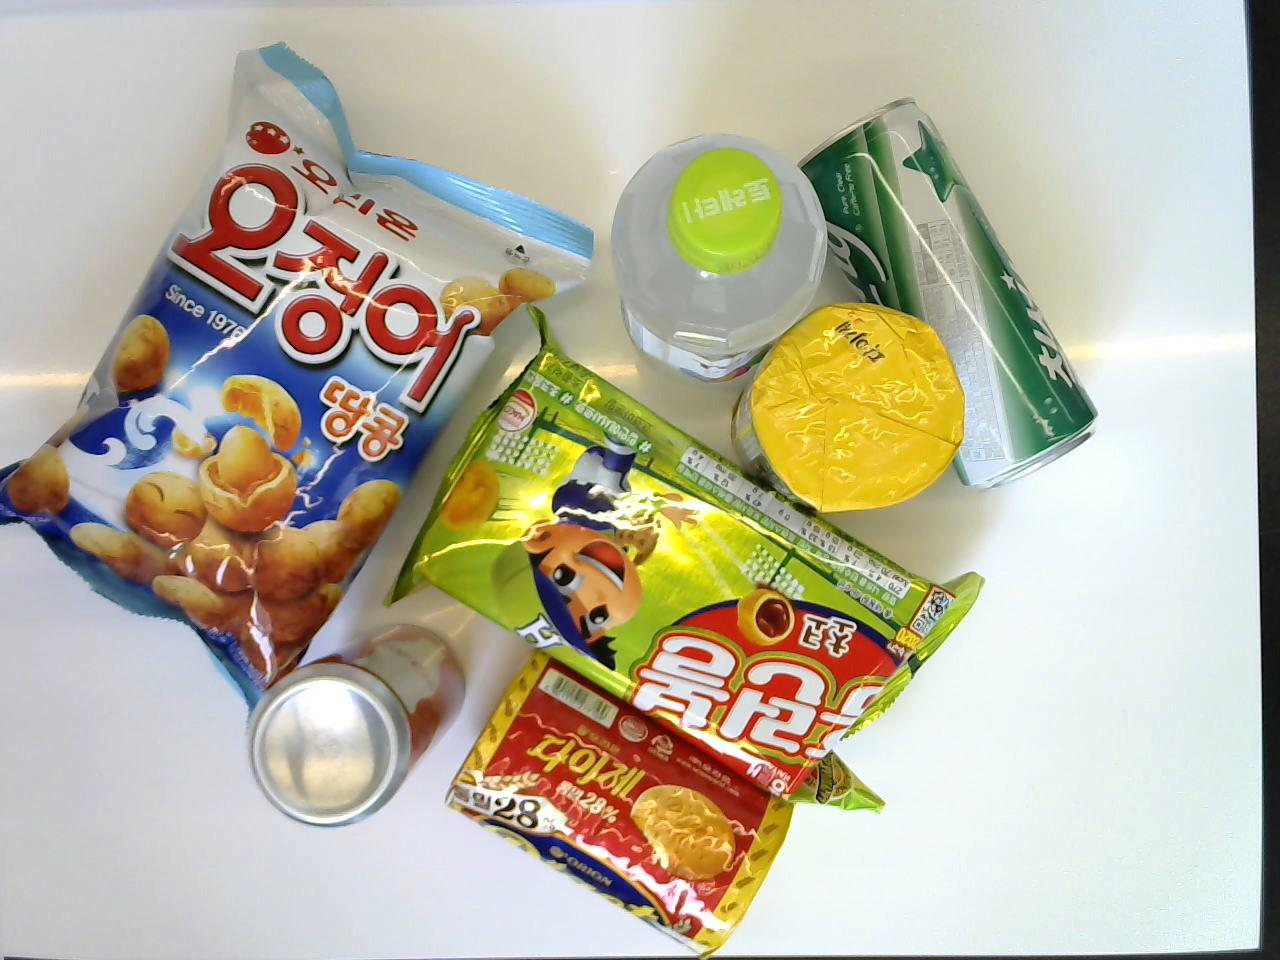cidar: (800, 97, 1102, 495)
coke: (247, 622, 462, 829)
diget_choco: (733, 302, 959, 523)
diget_ori: (447, 646, 795, 952)
homerunball: (390, 307, 988, 818)
squid_peanut: (0, 40, 595, 718)
toreta: (610, 130, 828, 385)
